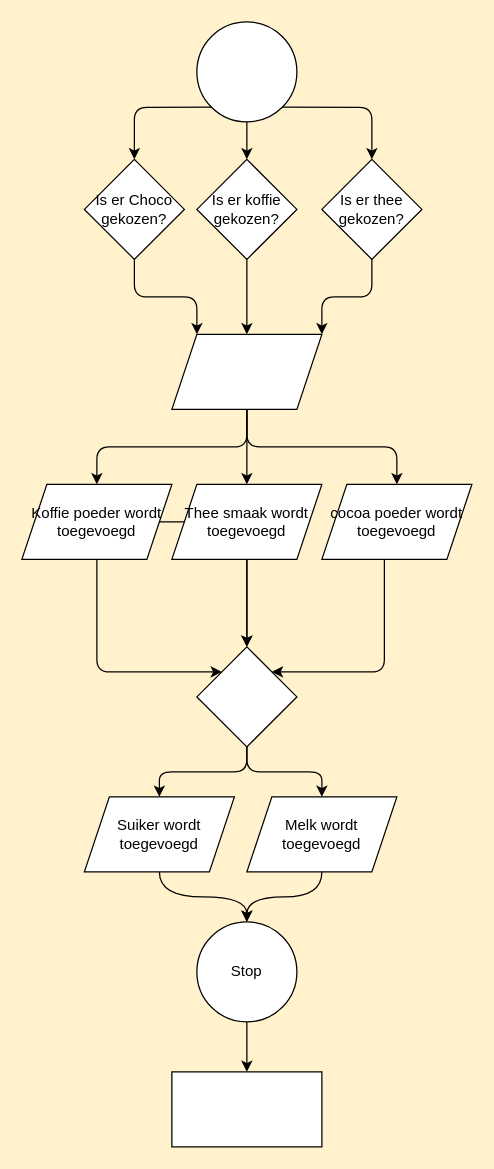
Image size: 494x1169. Some labels were removed from this diagram. Each missing label, with the centre of its shape:
"Begint met opwarmen water" goes at (x=246, y=371).
"Borrel is gereed om geconsumeerd te worden" goes at (x=246, y=1109).
"Is er suiker of melk gekozen" goes at (x=246, y=696).
"Start" goes at (x=246, y=71).
